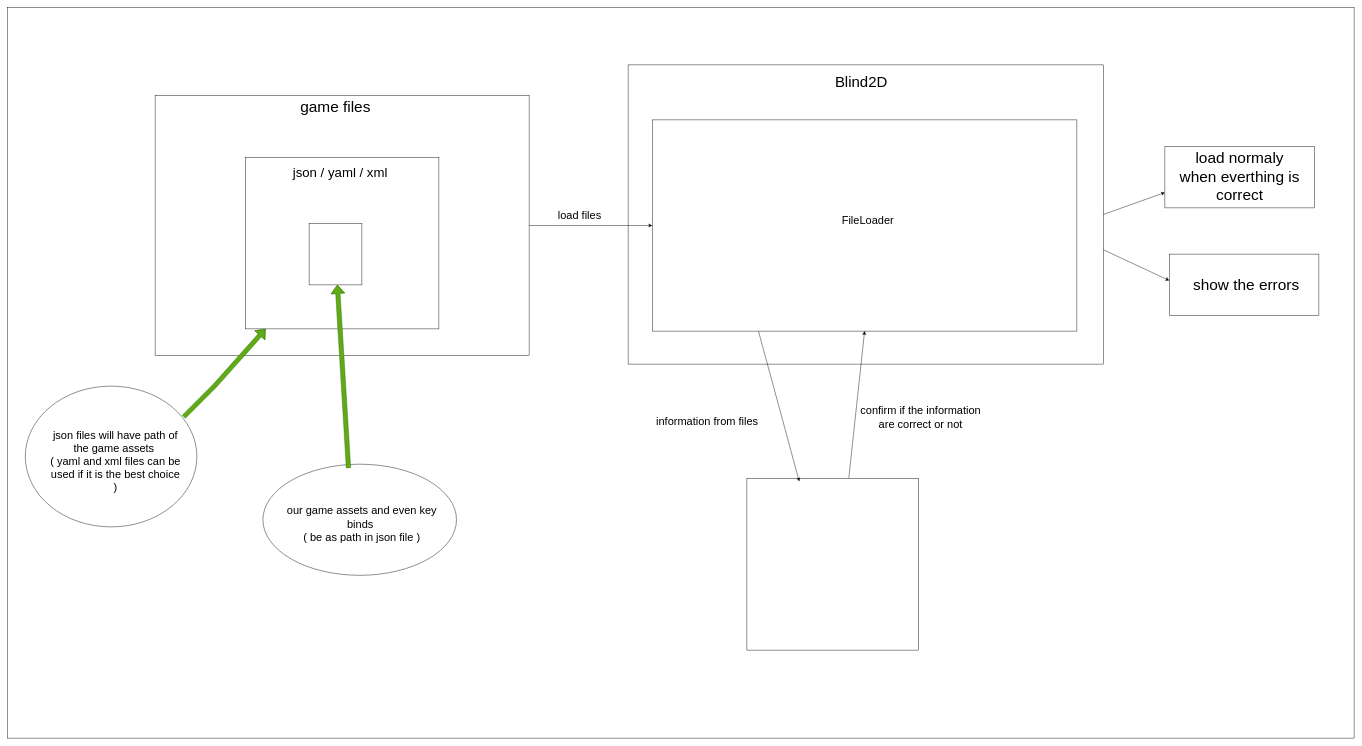
Image size: 1362x746. Some labels were removed from this diagram. Here are the shapes that lost their labels. From the top down, the centre of each, then its label:
the point at 335,254: assets
the point at 832,564: game logic
